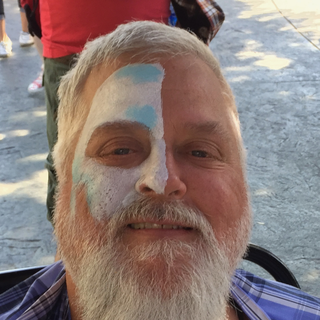eye: (98, 140, 142, 164), (178, 142, 223, 165)
